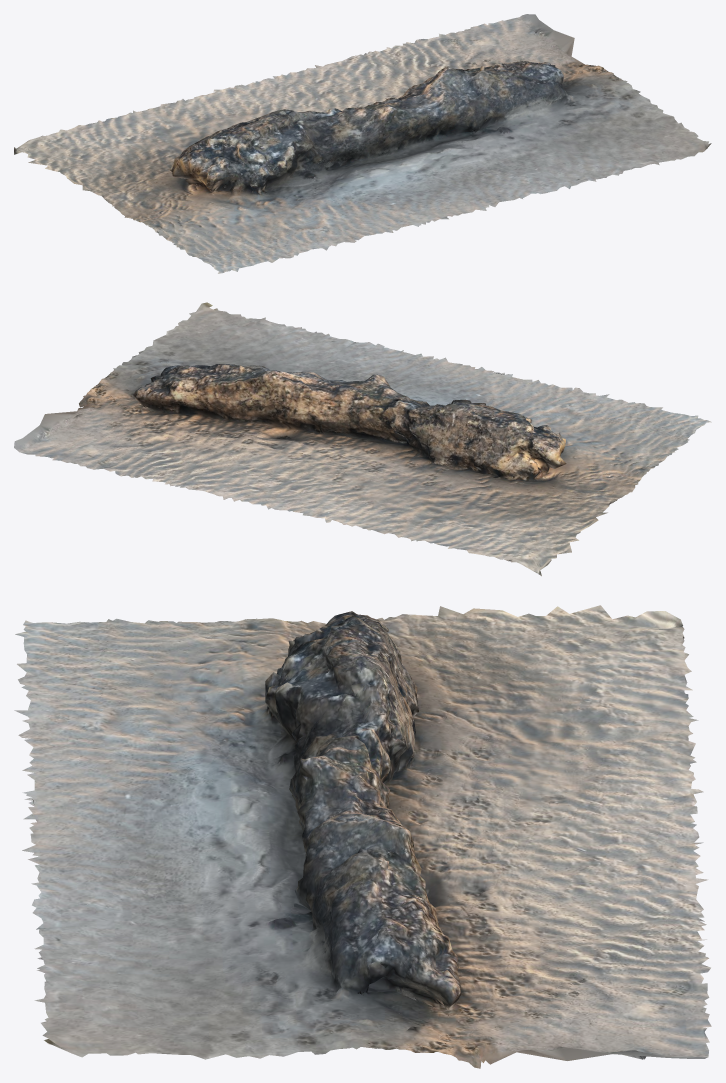
The model's file is scan_log.glb.
3 views of the same model, one above another, from view 1: azimuth 30°, elevation 25°; view 2: azimuth 150°, elevation 25°; view 3: azimuth 270°, elevation 25° (orthographic). The views are drawn at different scales.
Visible parts, largest first — view 1: scan_log; view 2: scan_log; view 3: scan_log.
Boxes of the visible parts, x1,y1,x2,y2 form: scan_log: [14, 14, 711, 273]; scan_log: [14, 302, 711, 576]; scan_log: [14, 605, 711, 1068].
Size of the model in its own units: 4.5 by 0.5236 by 2.91.
Materials: 1 (1 with a texture image).
